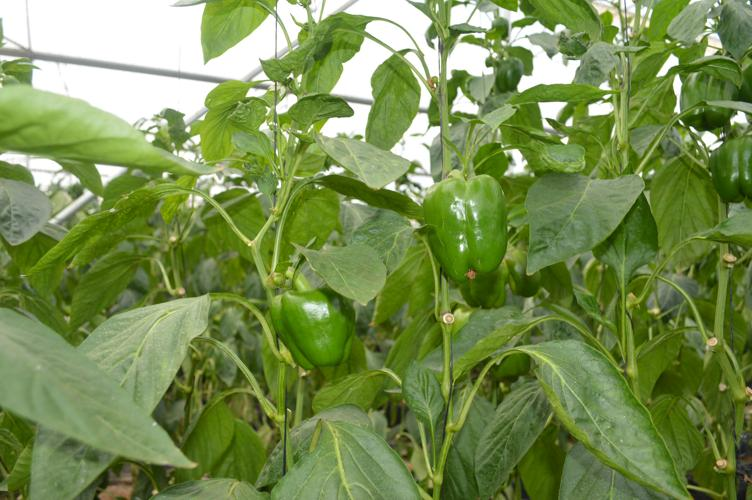BellPepper: (423, 176, 505, 279), (272, 286, 354, 366), (678, 71, 738, 127), (710, 139, 749, 206), (453, 269, 510, 310), (508, 257, 538, 299)
